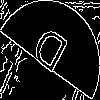D: (25, 24, 71, 83)
